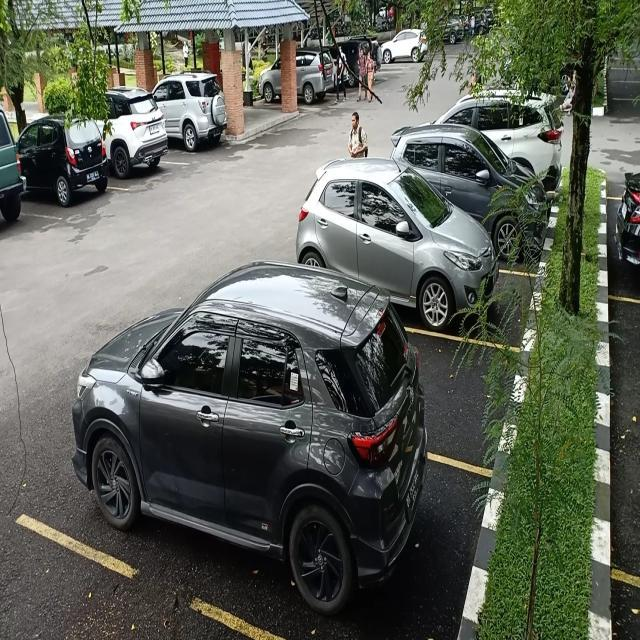occupied: (70, 348, 418, 623), (392, 224, 516, 348), (25, 144, 111, 220), (110, 95, 169, 194)
